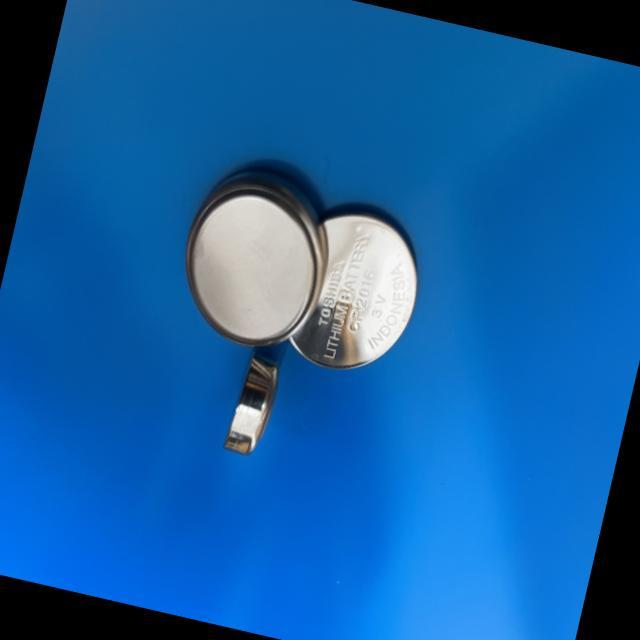COIN: (162, 153, 346, 364), (275, 196, 435, 386), (216, 342, 286, 463)
